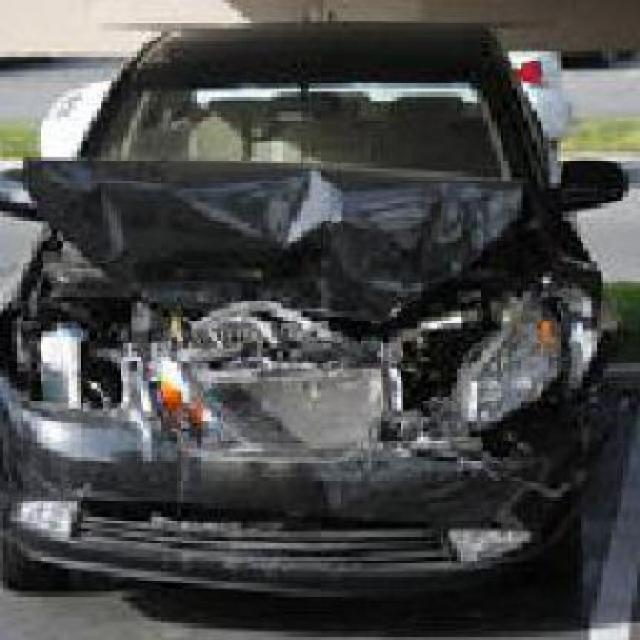damaged-head-light: (10, 322, 121, 406)
damaged-hood: (28, 151, 520, 347)
